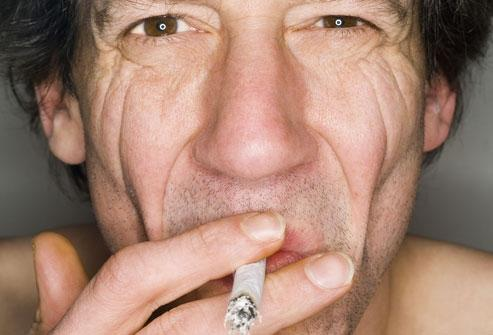cigarette: (222, 251, 270, 335)
